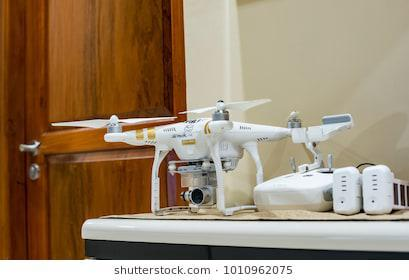drone: (47, 97, 356, 215)
